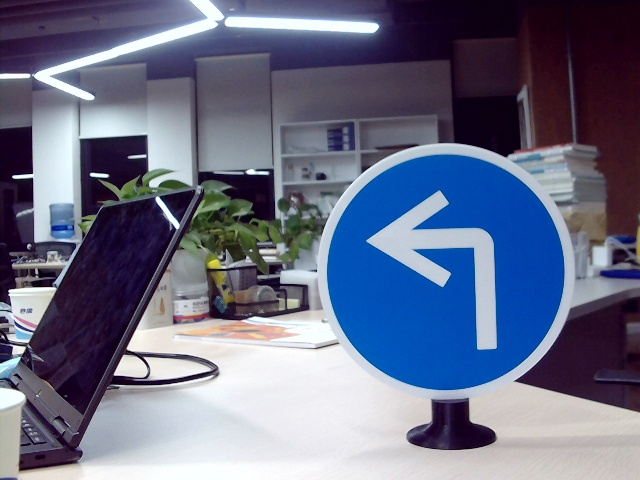turn_left: (369, 184, 511, 356)
